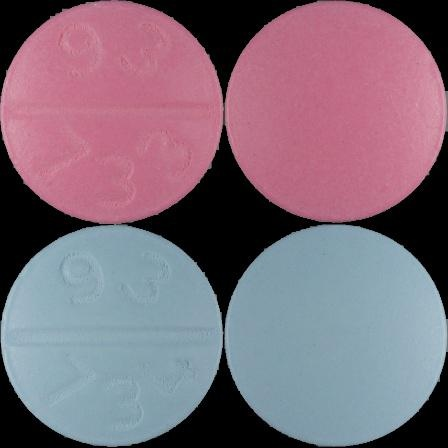0093-0733: (0, 0, 224, 224)
